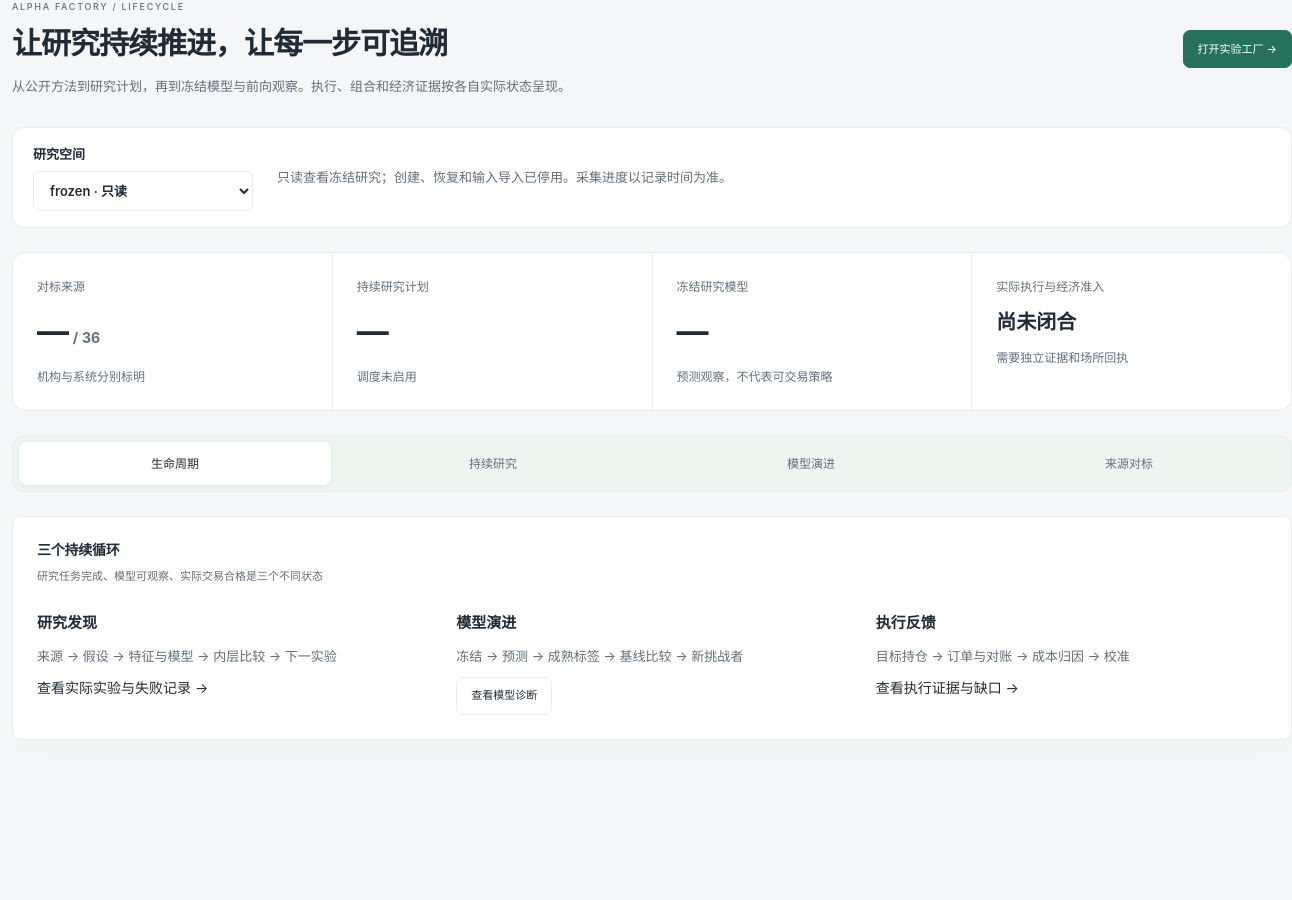
Test: keeps lifecycle navigation in the same read-only workspace
What coordinates should you click on to do the following:
click the tab "持续研究"
I would click on:
 (493, 464)
Its box is x1=337 y1=442 x2=649 y2=485.
(page scrolled)
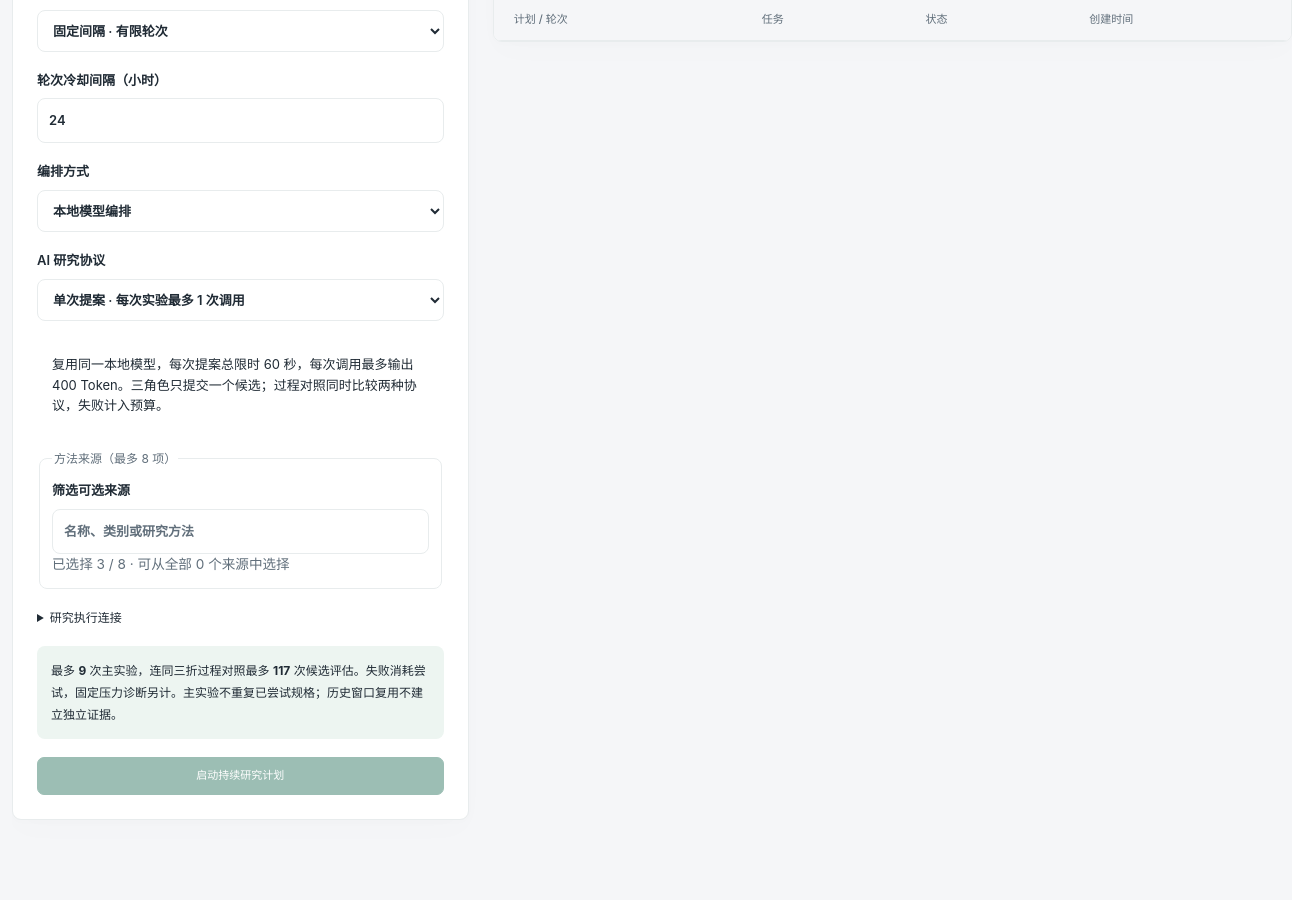
Now the button "启动持续研究计划" is disabled, box x1=37 y1=757 x2=444 y2=795
